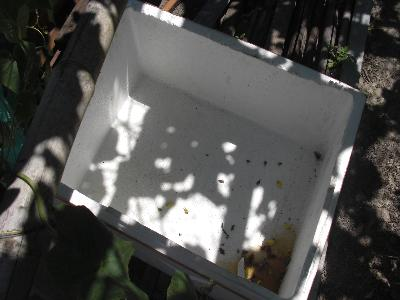styrofoam: (61, 4, 366, 299)
